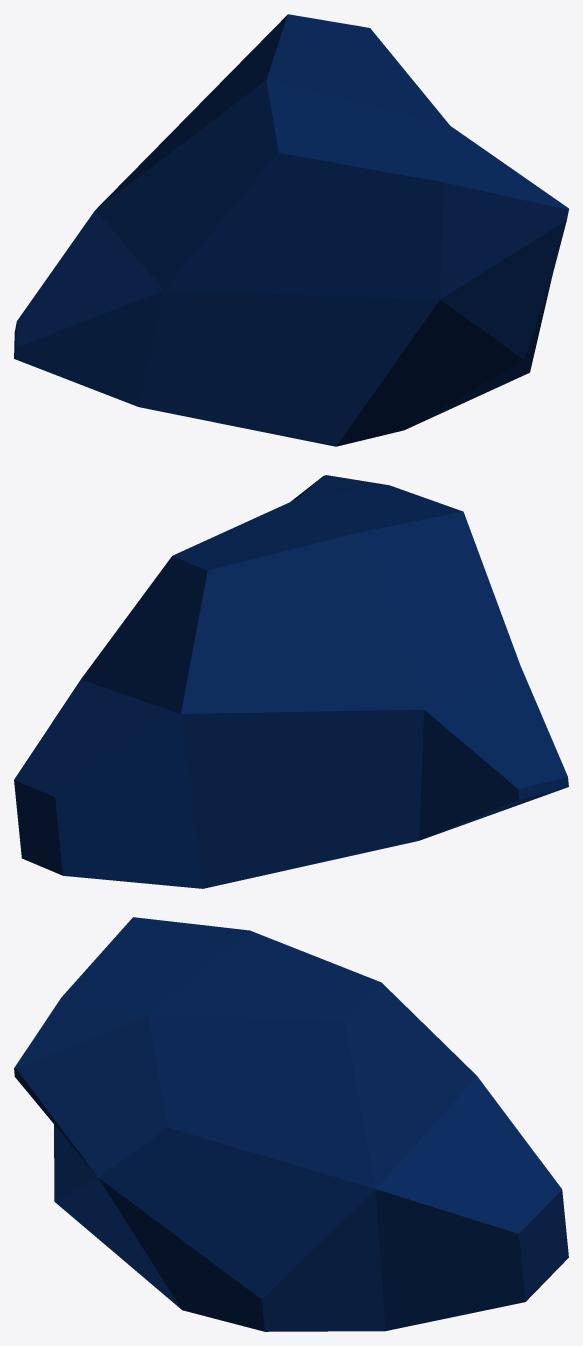
File: Cave_stone_11.glb
3 renders of one model, top to bottom at view 1: azimuth 30°, elevation 25°; view 2: azimuth 150°, elevation 25°; view 3: azimuth 270°, elevation 25°, orthographic. The views are drawn at different scales.
Visible parts, largest first — view 1: Cave_stone_11; view 2: Cave_stone_11; view 3: Cave_stone_11.
Part boxes in pixels (x1,y1,x2,y2): Cave_stone_11: (14,14,568,446); Cave_stone_11: (14,475,568,888); Cave_stone_11: (14,917,568,1331).
Bounding box in the file's own units: 0.4141 × 0.2627 × 0.4284.
